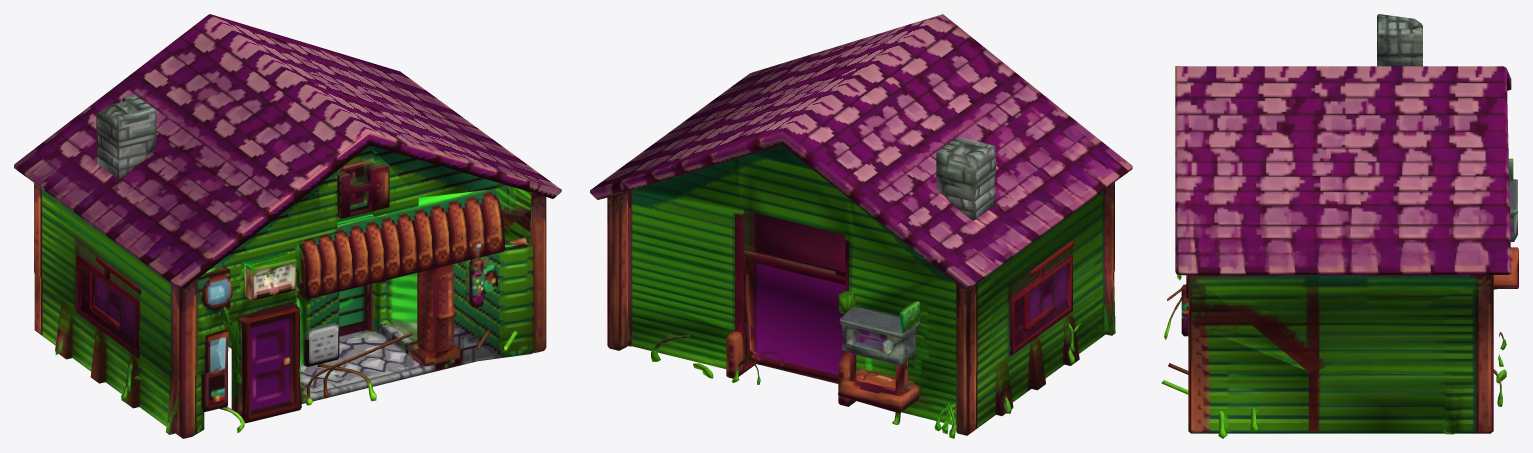
The model's file is university.glb.
3 renders of one model, left to right at view 1: azimuth 30°, elevation 25°; view 2: azimuth 150°, elevation 25°; view 3: azimuth 270°, elevation 25°, orthographic. The views are drawn at different scales.
Size of the model in its own units: 1.91 by 1.28 by 1.49.
1 material, 1 textured.
